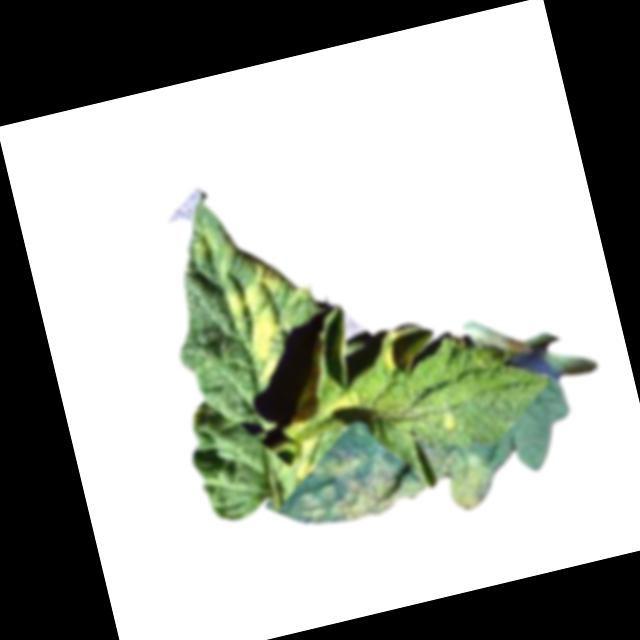Leaf_Mold: (288, 422, 500, 547), (213, 257, 306, 384), (273, 360, 368, 480), (374, 317, 442, 377), (435, 402, 463, 433)
